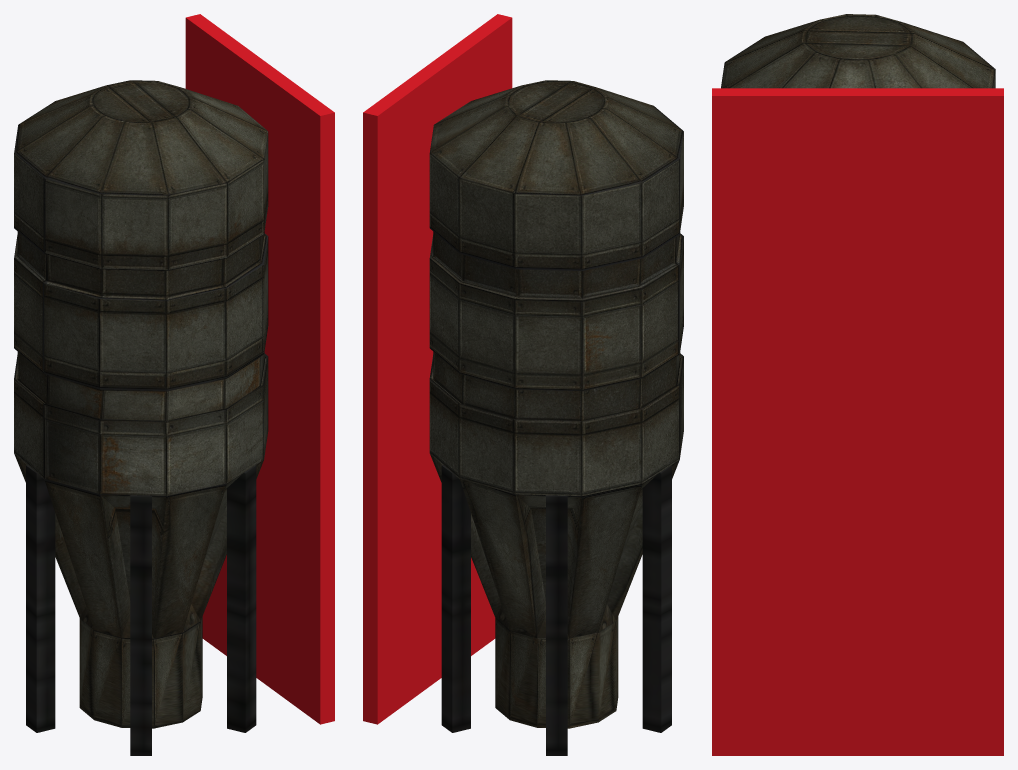
Rendered from silo_text.fbx.
3 renders of one model, left to right at view 1: azimuth 30°, elevation 25°; view 2: azimuth 150°, elevation 25°; view 3: azimuth 270°, elevation 25°, orthographic. The views are drawn at different scales.
Parts seen in each view (by area): view 1: silo_text, Cube.082, Cube.085; view 2: silo_text, Cube.082, Cube.085; view 3: Cube.082, Cube.085, silo_text.
Boxes of the visible parts, bbox=[...] form: silo_text: bbox=[14, 80, 268, 755]; Cube.082: bbox=[185, 14, 334, 420]; Cube.085: bbox=[202, 382, 334, 724]; silo_text: bbox=[429, 80, 683, 755]; Cube.082: bbox=[363, 14, 512, 419]; Cube.085: bbox=[363, 382, 495, 724]; Cube.082: bbox=[712, 88, 1003, 426]; Cube.085: bbox=[712, 426, 1003, 755]; silo_text: bbox=[721, 14, 995, 88].
Size of the model in its own units: 457 by 1123 by 450.
Materials: 2 (1 with a texture image).
